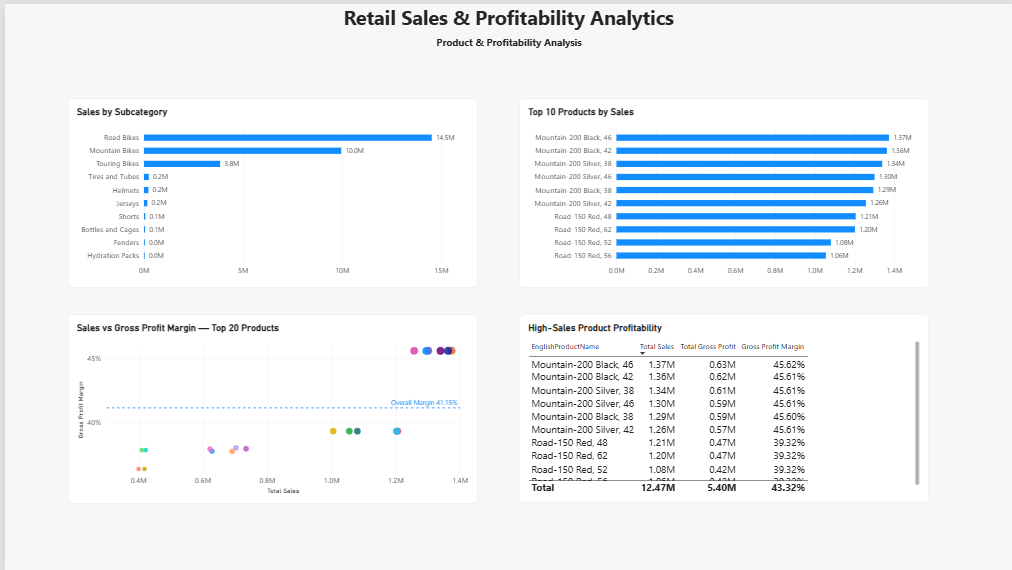

Layout of this report page (visuals, bound fields, positions):
{"tool":"powerbi","page":{"name":"Product & Profitability","canvas":[1920,1080],"ordinal":1},"visuals":[{"type":"textbox","box":[622.7,0,672.8,59.6],"z":0},{"type":"textbox","box":[808.8,59.6,300.6,21.5],"z":1000},{"type":"clusteredBarChart","title":"Sales by Subcategory","fields":{"Category":["DimProduct_merge.EnglishProductSubcategoryName"],"Y":["FactInternetSales.Total Sales"]},"box":[120,180,780,360],"z":2000},{"type":"clusteredBarChart","title":"Top 10 Products by Sales","fields":{"Category":["DimProduct_merge.EnglishProductName"],"Y":["FactInternetSales.Total Sales"]},"box":[980,180,780,360],"z":3000},{"type":"scatterChart","title":"Sales vs Gross Profit Margin — Top 20 Products","fields":{"Category":["DimProduct_merge.EnglishProductName"],"Size":["FactInternetSales.Total Gross Profit"],"X":["FactInternetSales.Total Sales"],"Y":["FactInternetSales.Gross Profit Margin"]},"box":[120.5,592.3,780,360],"z":4000},{"type":"tableEx","title":"High-Sales Product Profitability","fields":{"Values":["DimProduct_merge.EnglishProductName","FactInternetSales.Total Sales","FactInternetSales.Total Gross Profit","FactInternetSales.Gross Profit Margin"]},"box":[979.5,592.3,779.5,359],"z":5000}]}

Visuals, with their boxes in screenshot pixels (x1, y1, x2, y2), scaled from the page's 1920x1080 canvas onto the 1012x570 screenshot:
textbox: detection(328, 0, 683, 31)
textbox: detection(426, 31, 585, 43)
"Sales by Subcategory" clusteredBarChart: detection(63, 95, 474, 285)
"Top 10 Products by Sales" clusteredBarChart: detection(517, 95, 928, 285)
"Sales vs Gross Profit Margin — Top 20 Products" scatterChart: detection(64, 313, 475, 503)
"High-Sales Product Profitability" tableEx: detection(516, 313, 927, 502)
